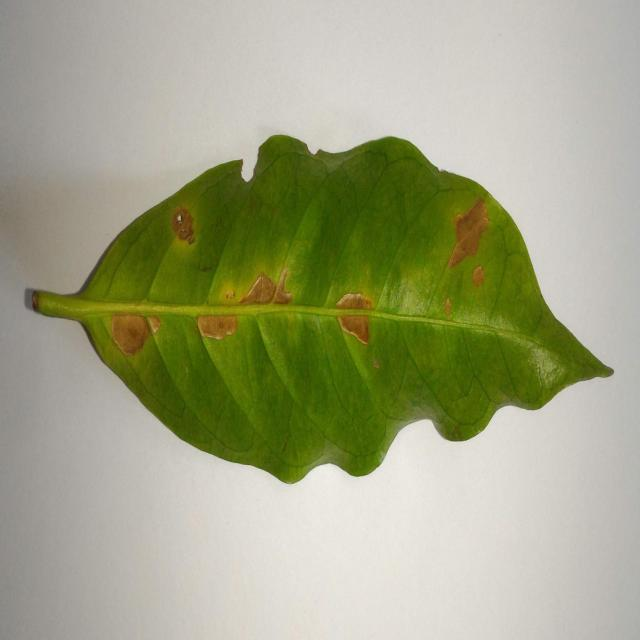Plaga-Minador: (23, 135, 613, 487)
